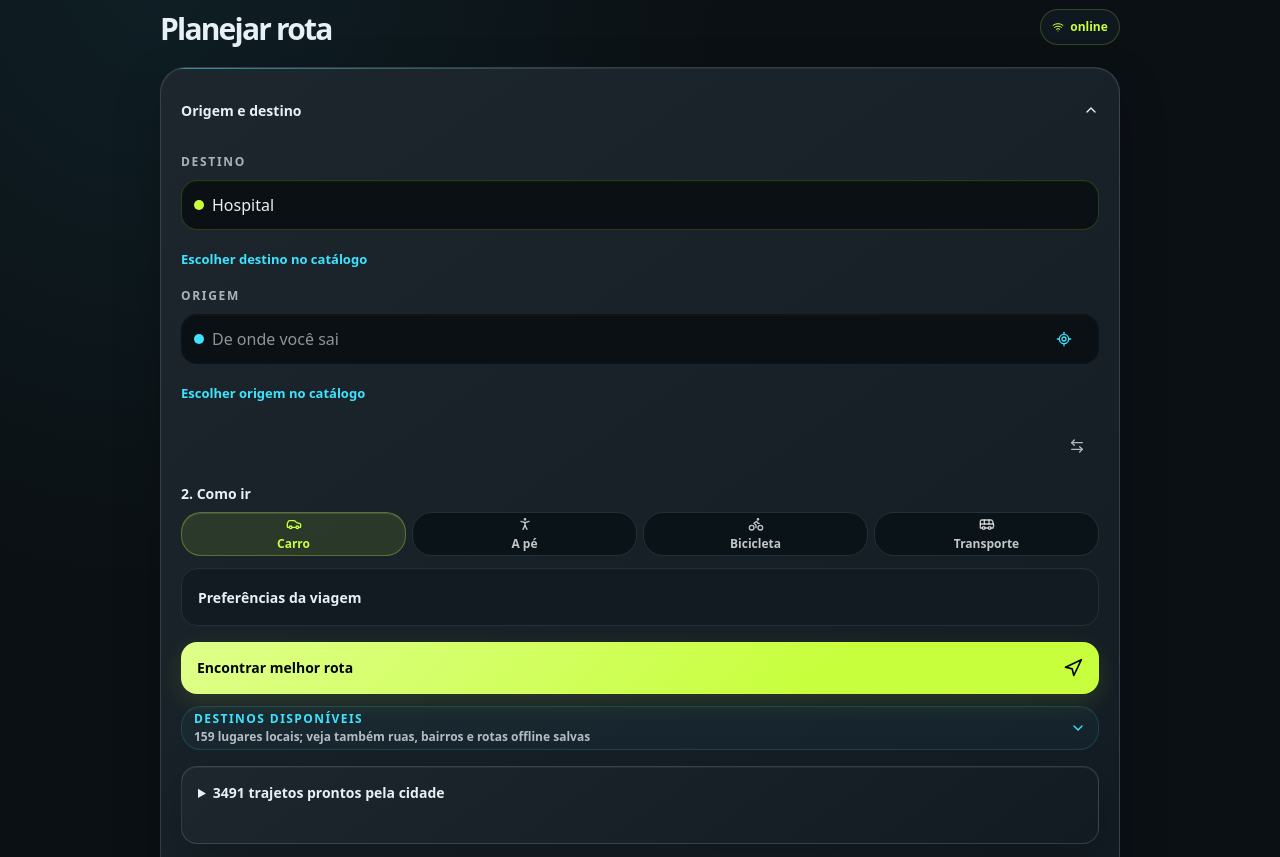
Scenario: Planner travel state › offers external navigation with the current position as an optional origin (static=false)
The width and height of the screenshot is (1280, 857).
Click the button with test id "planner-primary-action".
click(275, 668)  # box [181,642,1099,694]
(page scrolled)
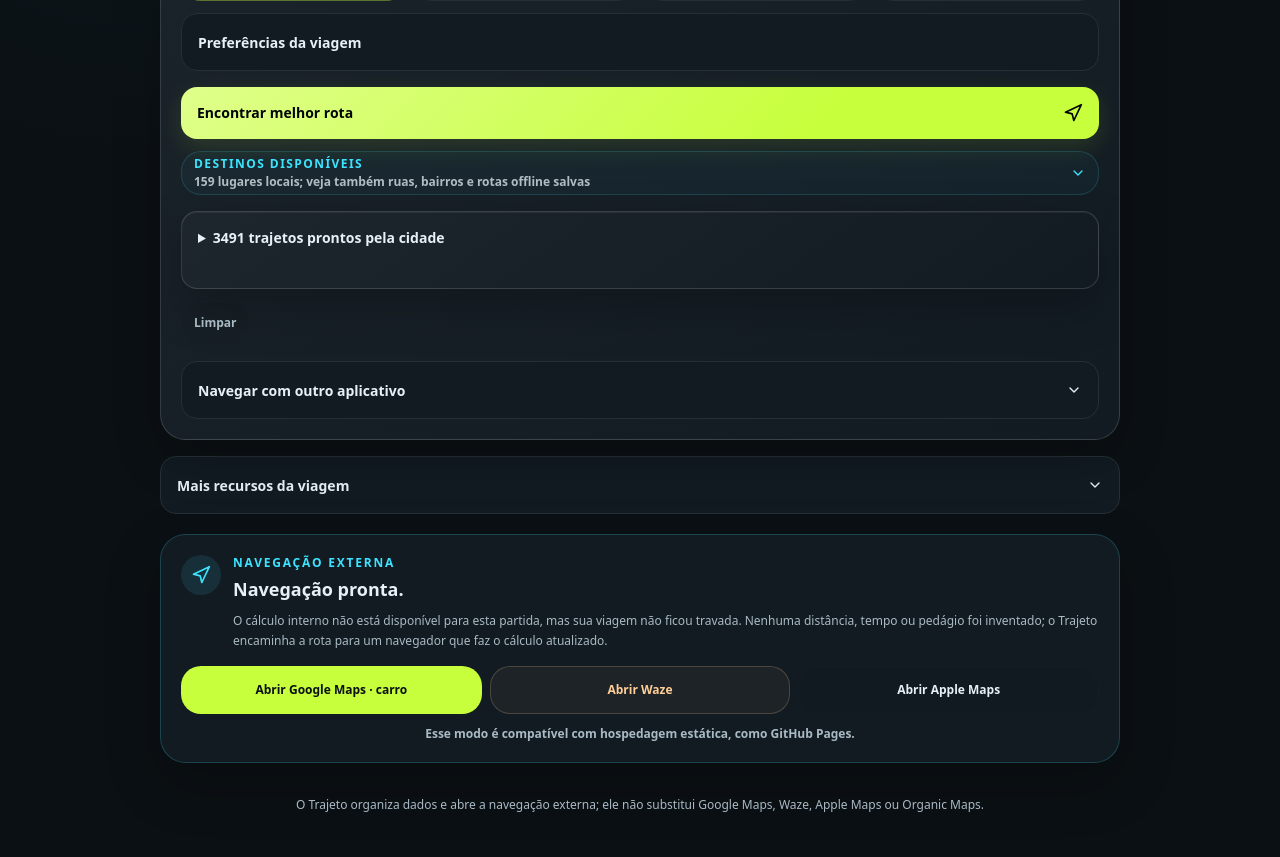
Check: the heading "Navegação pronta." is shown, box [233,577,404,601]
Check: the button "Abrir Google Maps · carro" is shown, box [181,666,482,714]
